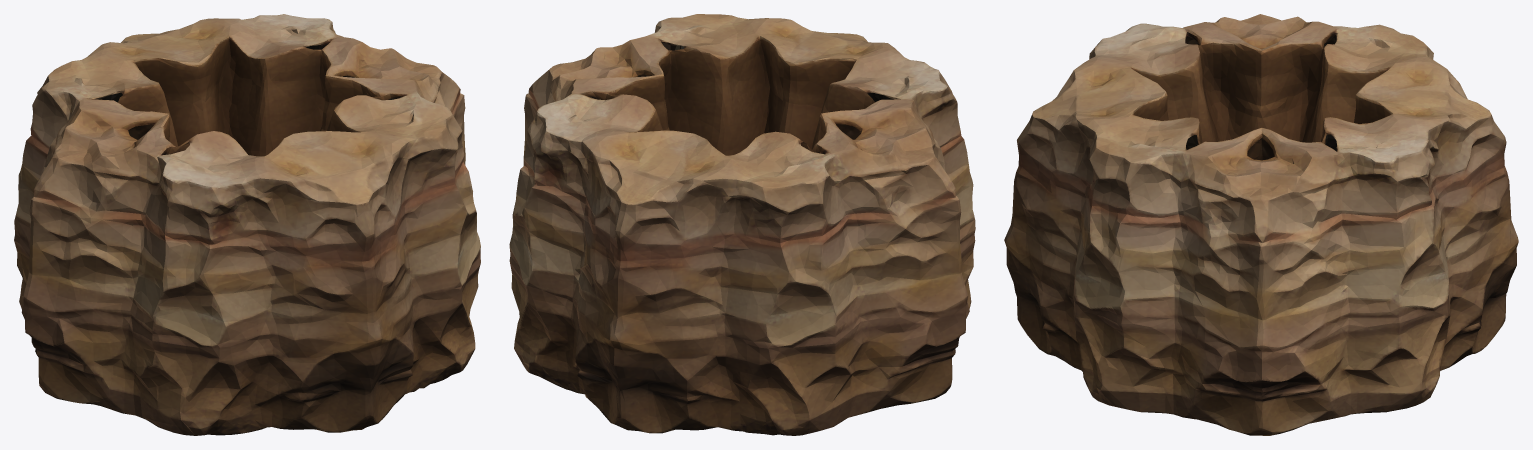
3 renders of one model, left to right at view 1: azimuth 30°, elevation 25°; view 2: azimuth 150°, elevation 25°; view 3: azimuth 270°, elevation 25°, orthographic.
Visible parts, largest first — view 1: world; view 2: world; view 3: world.
Boxes of the visible parts, <box> form: world: <box>14,14,480,435</box>; world: <box>509,14,975,435</box>; world: <box>1004,14,1518,435</box>.
Bounding box in the file's own units: 1 × 0.665 × 1.
Materials: 1 (1 with a texture image).
